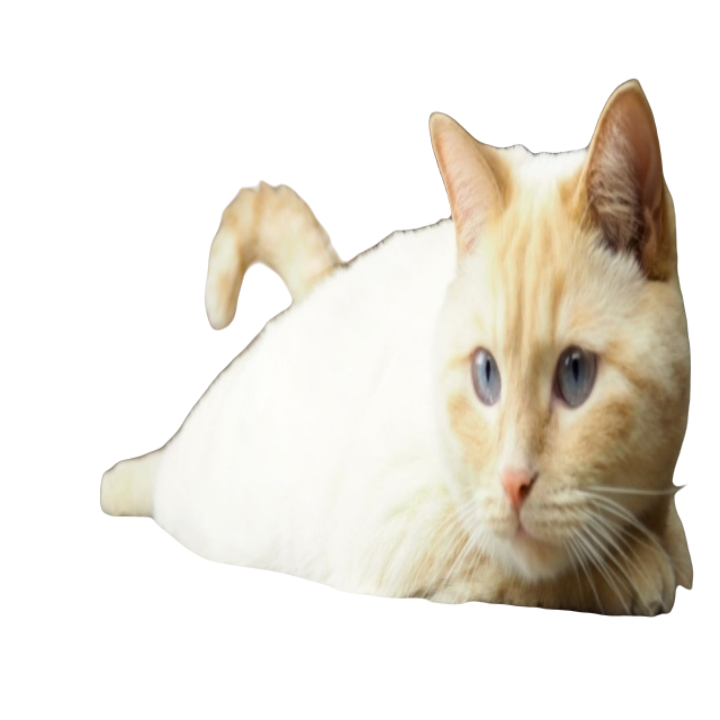Cat: (96, 80, 703, 621)
